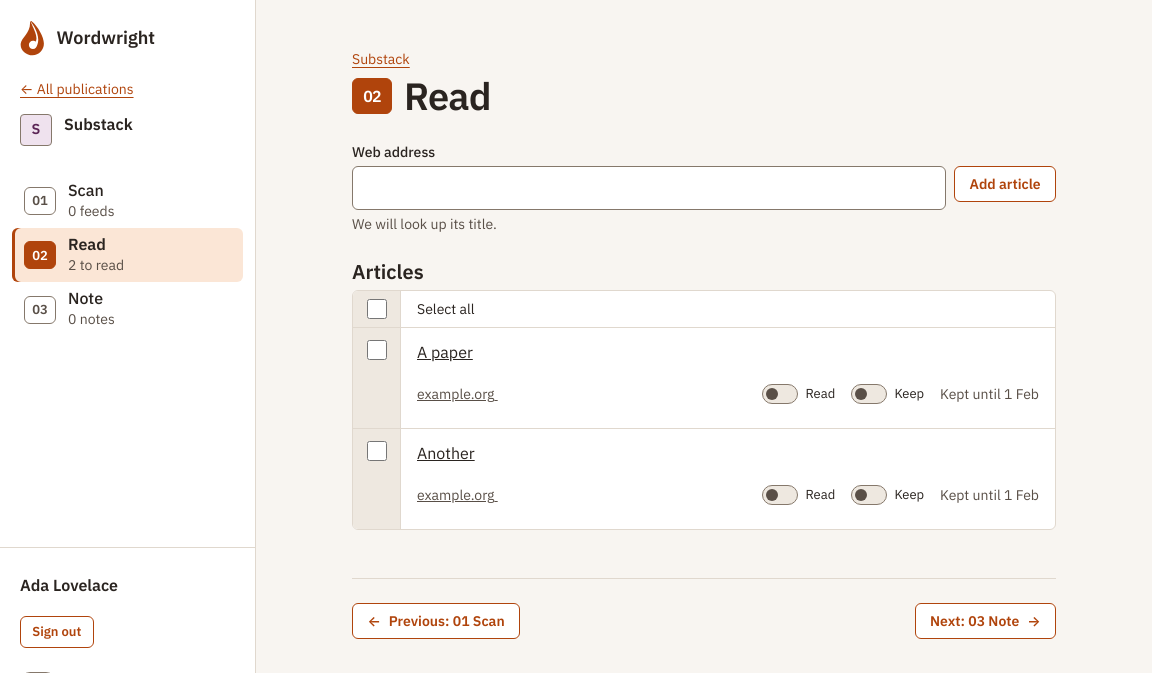
moving articles › offers ticks on each item and a place to move to, and moves only once both are chosen
The width and height of the screenshot is (1152, 673).
expect the button "Move to…" is not shown: met
Step 1. Click the checkbox named "Select A paper" → [376, 350], box [366,340,386,360]
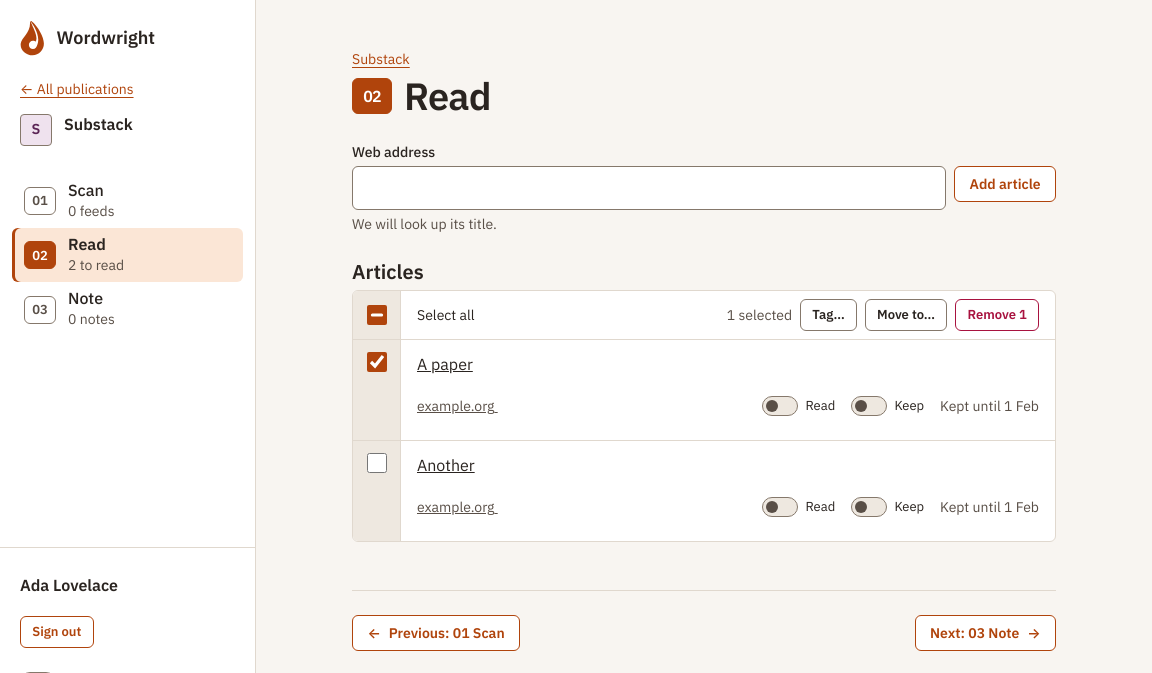
Step 2. Click the checkbox named "Select Another" → [376, 463], box [366,453,386,473]
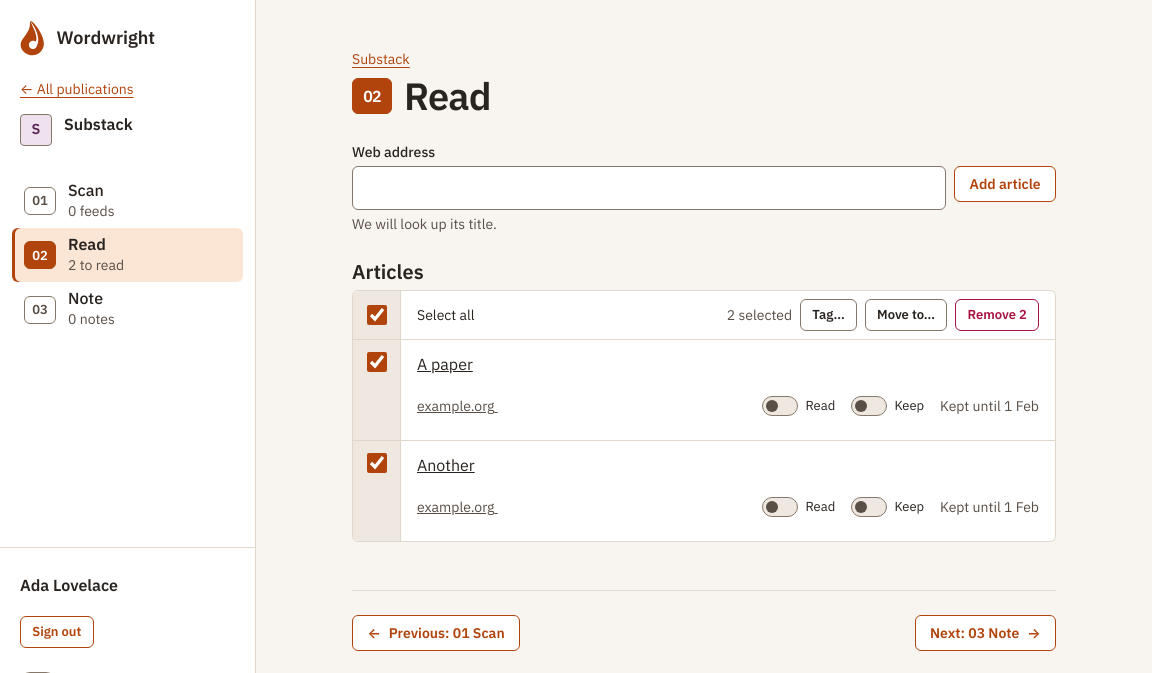
expect the text "2 selected" is shown: met, box [727,304,792,326]
Step 3. Click the button "Move to…" → [906, 315], box [865,299,947,331]
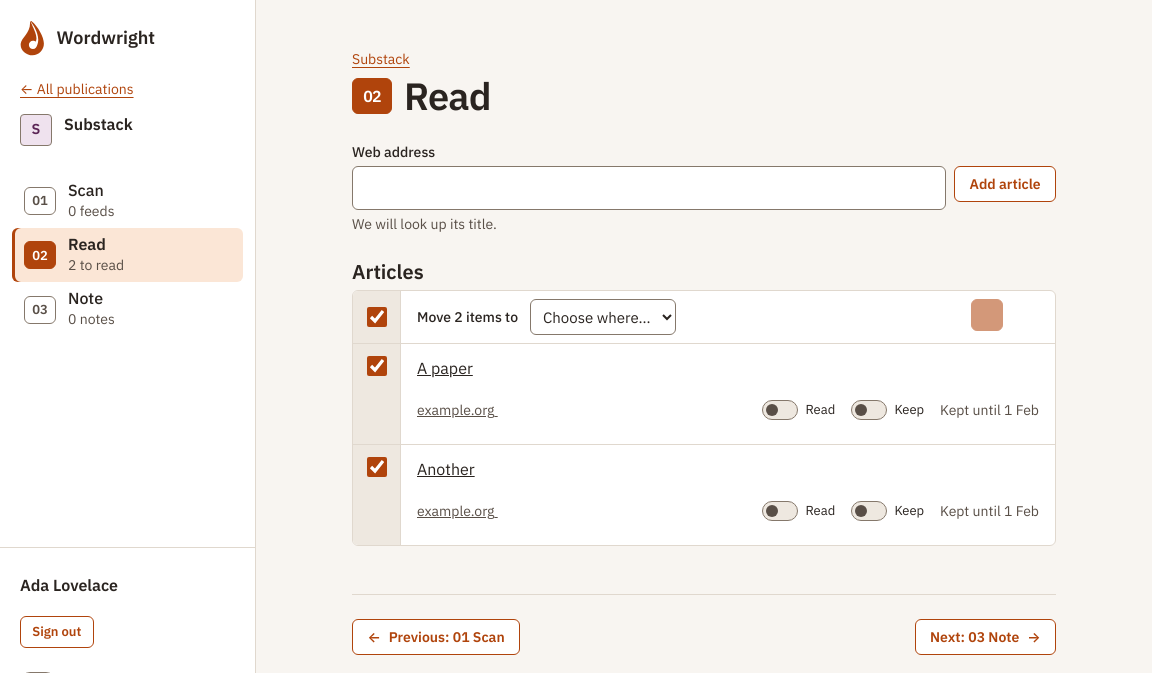
expect the button "Move to…" is gone: met
expect the button "Tag" is gone: met
expect the button named "Move 2 items" is disabled: met, box [971,299,1003,331]
Step 4. Select "Rivers" in the dropdown labelled "Move 2 items to" → [603, 317], box [530,299,676,335]
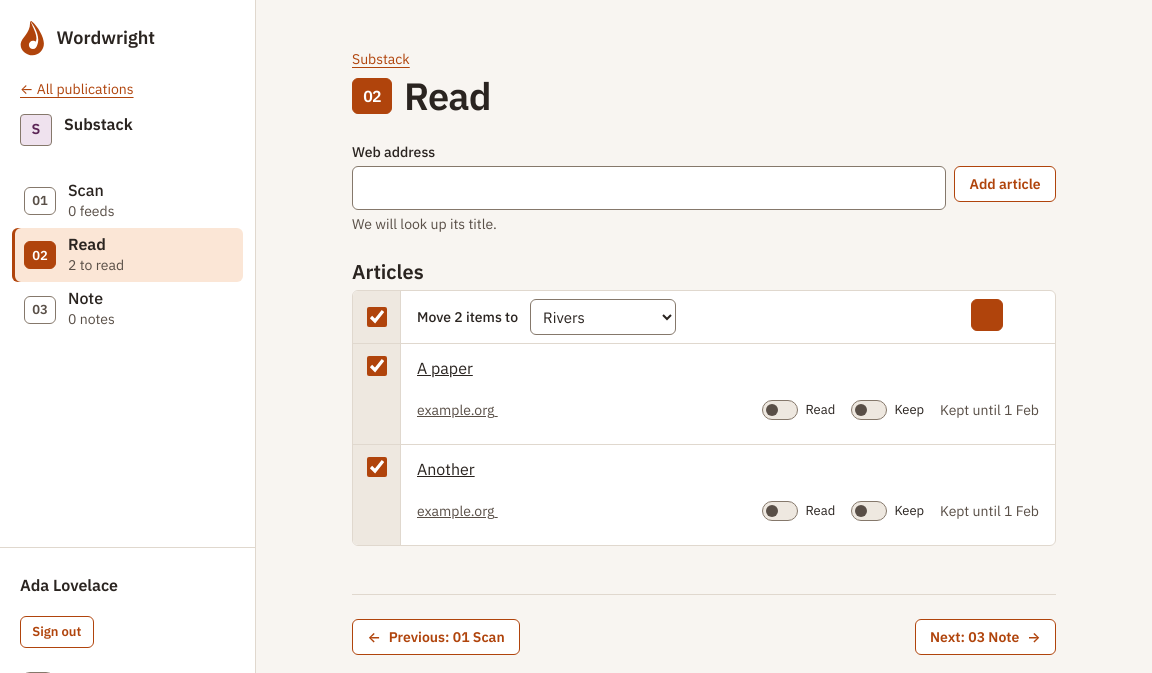
expect the button named "Move 2 items" is enabled: met, box [971,299,1003,331]
